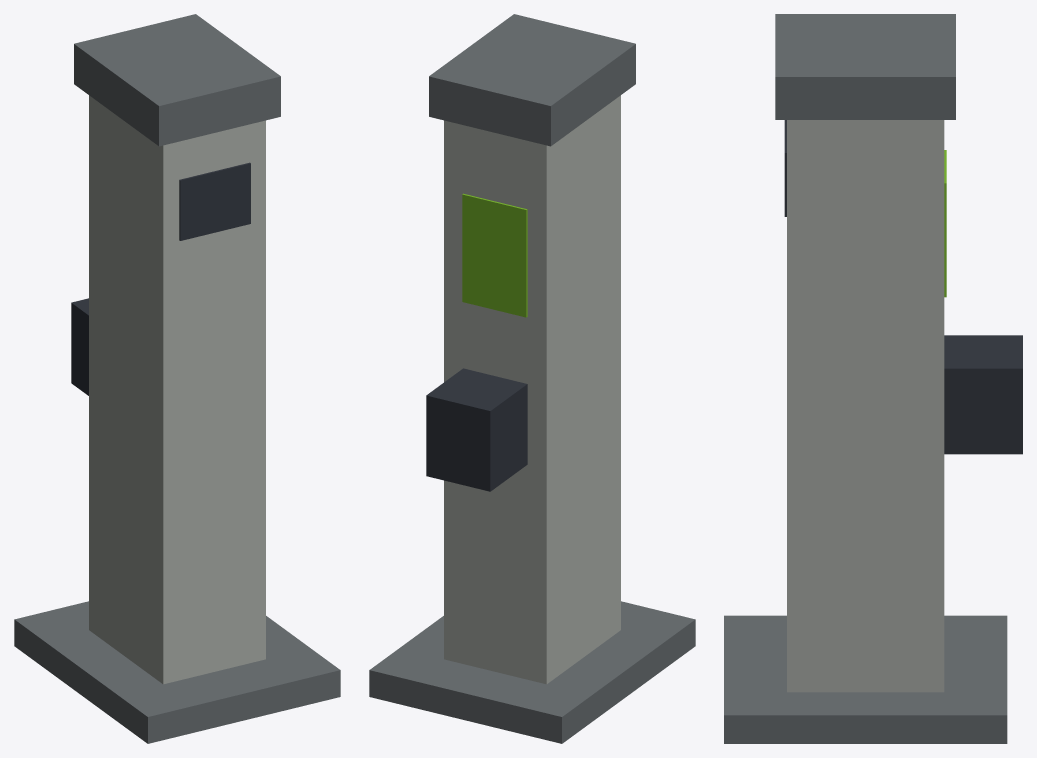
Rendered from velib-dock.glb.
3 renders of one model, left to right at view 1: azimuth 30°, elevation 25°; view 2: azimuth 150°, elevation 25°; view 3: azimuth 270°, elevation 25°, orthographic. The views are drawn at different scales.
Visible parts, largest first — view 1: velib-dock; view 2: velib-dock; view 3: velib-dock.
Boxes of the visible parts, x1,y1,x2,y2 form: velib-dock: (14,14,340,743); velib-dock: (369,14,695,743); velib-dock: (724,14,1022,743).
Size of the model in its own units: 0.3 by 0.91 by 0.38.
Materials: 1 (1 with a texture image).
